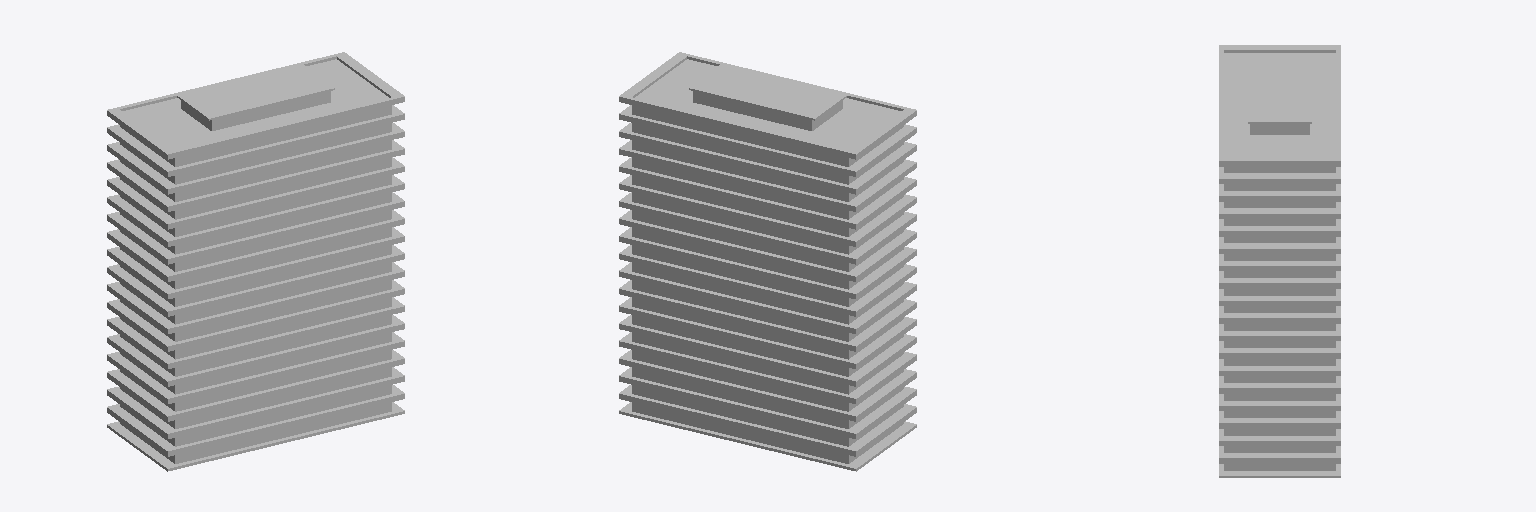
File: building5.obj
3 renders of one model, left to right at view 1: azimuth 30°, elevation 25°; view 2: azimuth 150°, elevation 25°; view 3: azimuth 270°, elevation 25°, orthographic.
Parts seen in each view (by area): view 1: polySurface13 group5, textureEditorIsolateSelectSet polySurface13 group5; view 2: polySurface13 group5, textureEditorIsolateSelectSet polySurface13 group5; view 3: polySurface13 group5, textureEditorIsolateSelectSet polySurface13 group5.
Part boxes in pixels (x1,y1,x2,y2): polySurface13 group5: (107, 52, 404, 471); textureEditorIsolateSelectSet polySurface13 group5: (120, 91, 391, 463); polySurface13 group5: (619, 52, 916, 471); textureEditorIsolateSelectSet polySurface13 group5: (632, 91, 903, 463); polySurface13 group5: (1219, 45, 1340, 477); textureEditorIsolateSelectSet polySurface13 group5: (1224, 124, 1335, 470).
Bounding box in the file's own units: 106 × 140 × 47.2.